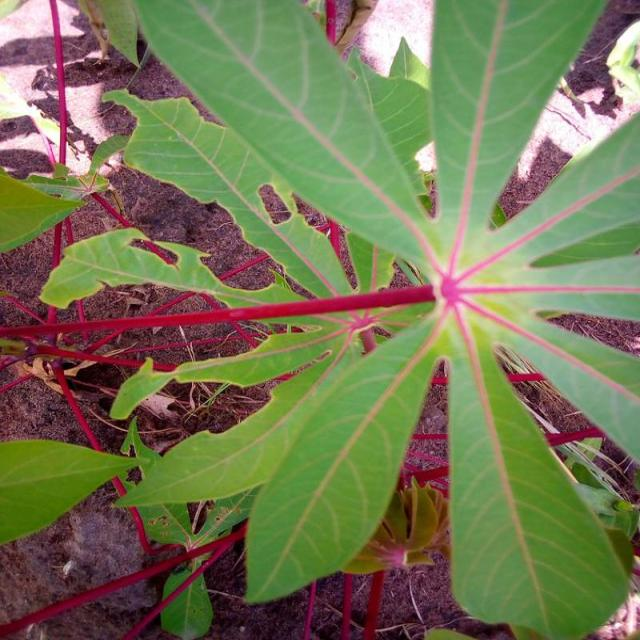cassava leaf: (1, 0, 638, 638), (444, 309, 634, 638)
